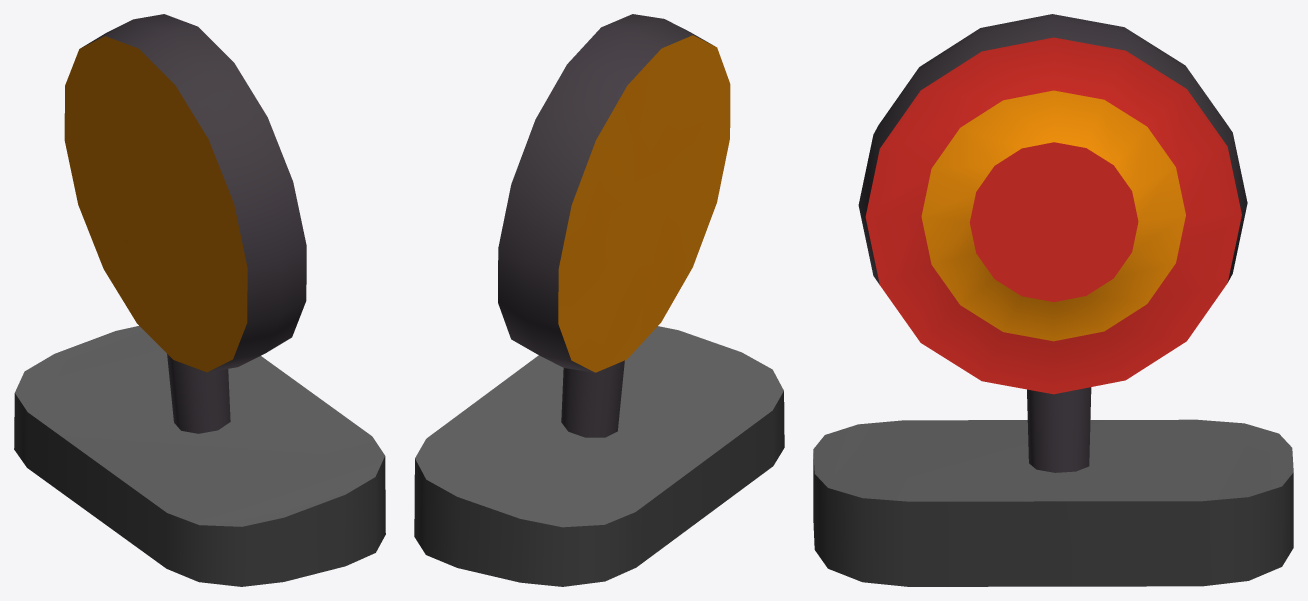
Rendered from Shield.fbx.
3 views of the same model, side by side, from view 1: azimuth 30°, elevation 25°; view 2: azimuth 150°, elevation 25°; view 3: azimuth 270°, elevation 25° (orthographic). The views are drawn at different scales.
Visible parts, largest first — view 1: Shield; view 2: Shield; view 3: Shield.
Part boxes in pixels (<box>): Shield: <box>14,14,385,586</box>; Shield: <box>414,14,784,586</box>; Shield: <box>813,14,1293,586</box>.
Size of the model in its own units: 1.82 by 3.87 by 3.4.
